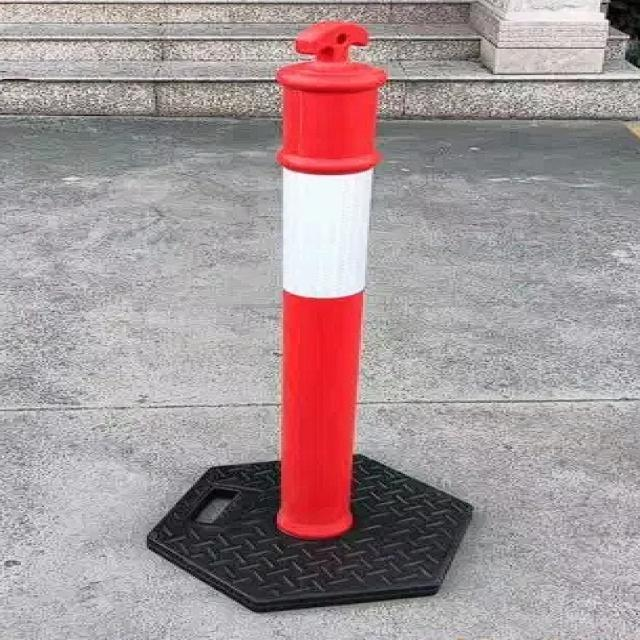obstacle: (276, 18, 382, 547)
